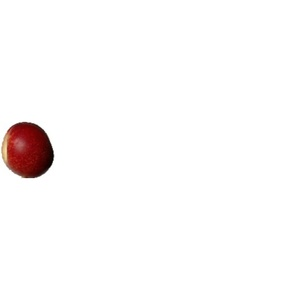nectarina: (2, 123, 54, 179)
